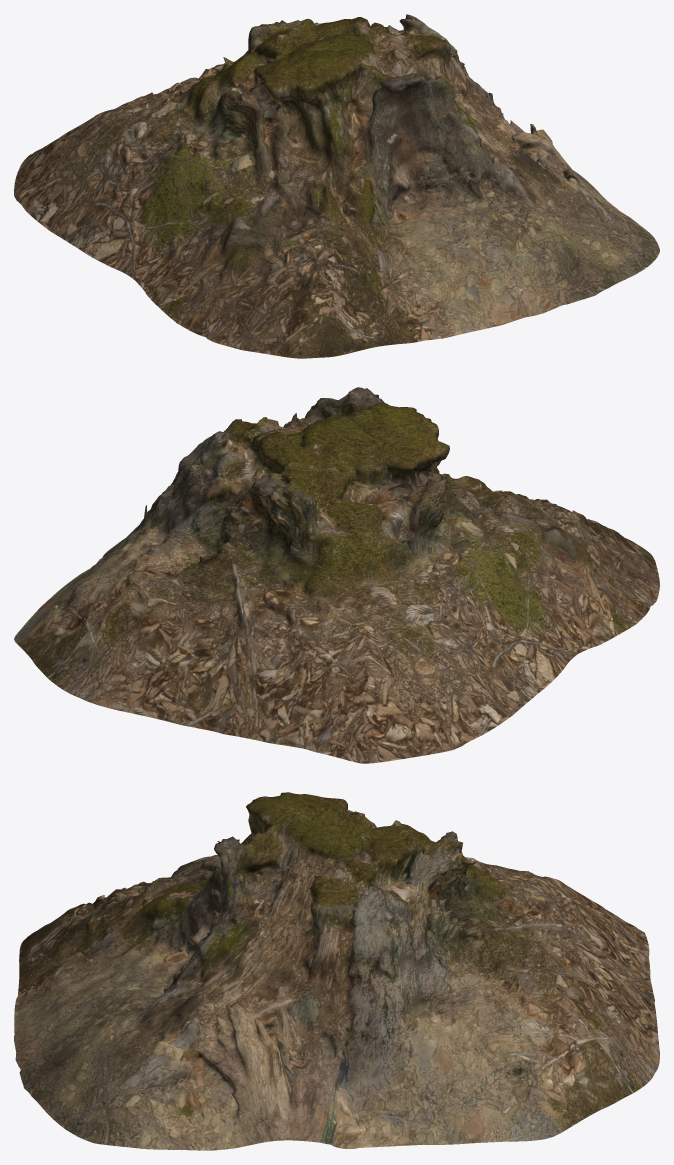
Rendered from tree_stump_01.glb.
The picture shows the model from 3 angles, top to bottom: view 1: azimuth 30°, elevation 25°; view 2: azimuth 150°, elevation 25°; view 3: azimuth 270°, elevation 25°; orthographic projection. The views are drawn at different scales.
Parts seen in each view (by area): view 1: tree_stump_01; view 2: tree_stump_01; view 3: tree_stump_01.
Boxes of the visible parts, left/top/right/bottom form: tree_stump_01: left=14, top=14, right=659, bottom=358; tree_stump_01: left=14, top=387, right=659, bottom=763; tree_stump_01: left=14, top=792, right=659, bottom=1150.
Bounding box in the file's own units: 1.79 × 0.7203 × 2.
Materials: 1 (1 with a texture image).
